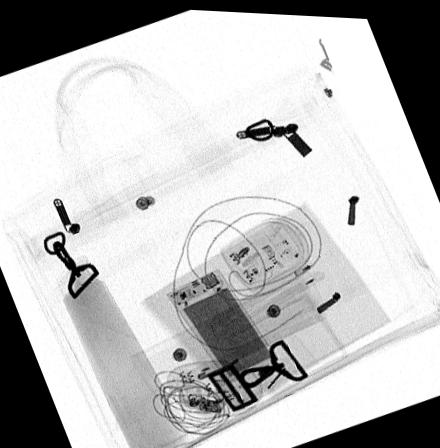Powerbank: (164, 264, 279, 384)
